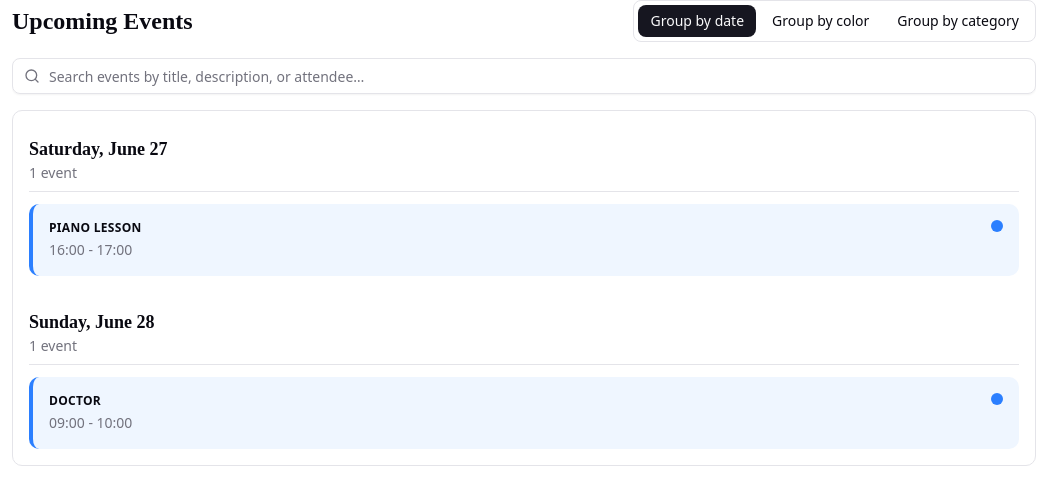
AgendaCalendar › Search › attendee match is case-insensitive
In the search field with placeholder "Search events by title, description, or attendee…": (524, 76) [12,58,1036,94], type "CAROL"
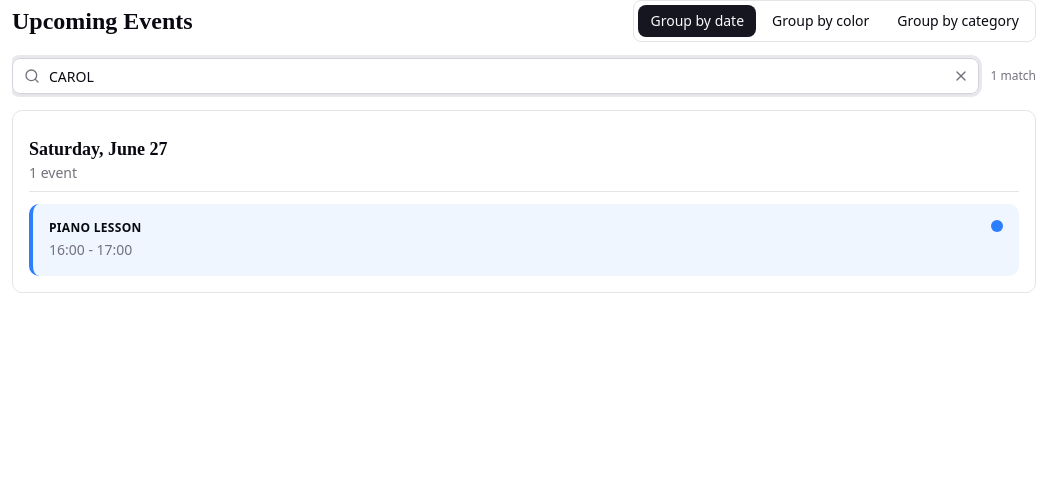
expect the heading "Piano Lesson" is shown: met, box [49,219,142,236]
expect the button "Doctor" is gone: met
